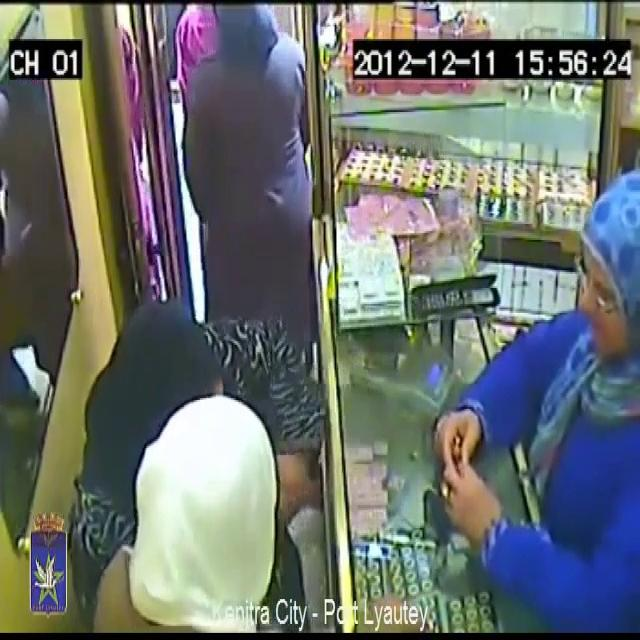Product: (438, 431, 464, 487)
normal: (105, 364, 323, 640), (178, 0, 317, 278), (127, 222, 232, 400)
shoplifting: (382, 144, 640, 627)
